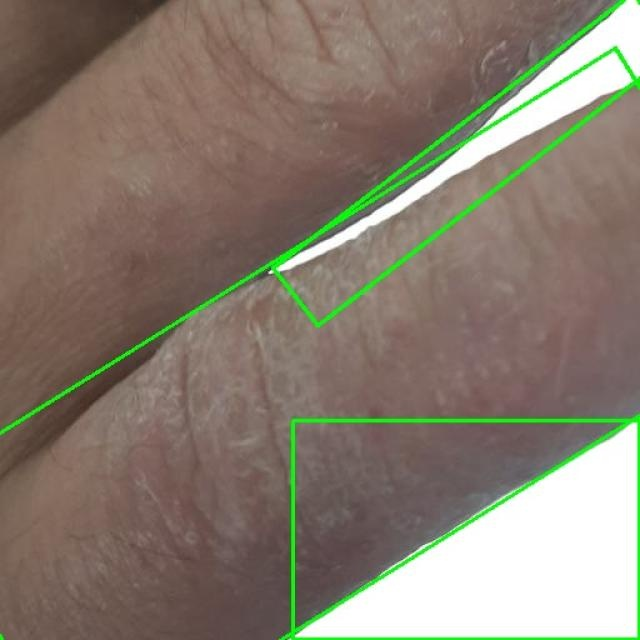Contact Dermatitis: (0, 48, 640, 640), (274, 0, 640, 327), (292, 420, 639, 639)
